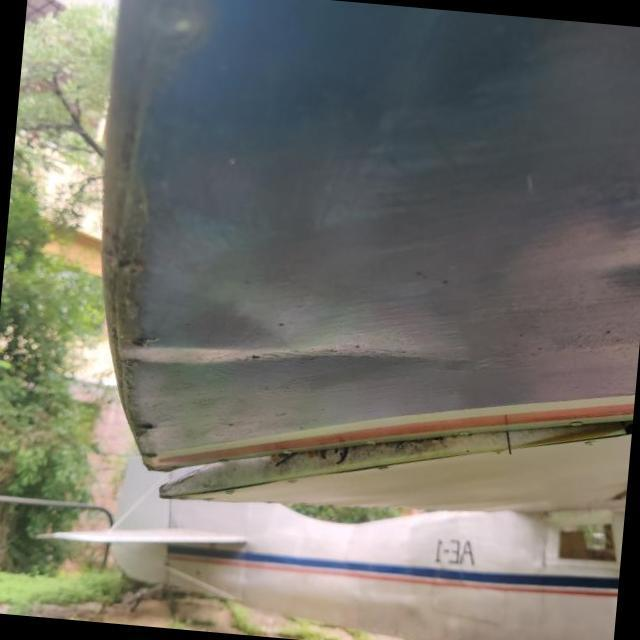Dent: (92, 262, 466, 432)
